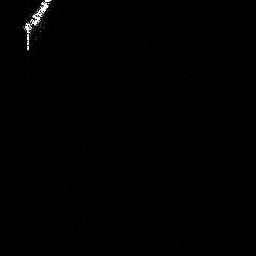ship: (21, 1, 53, 52)
